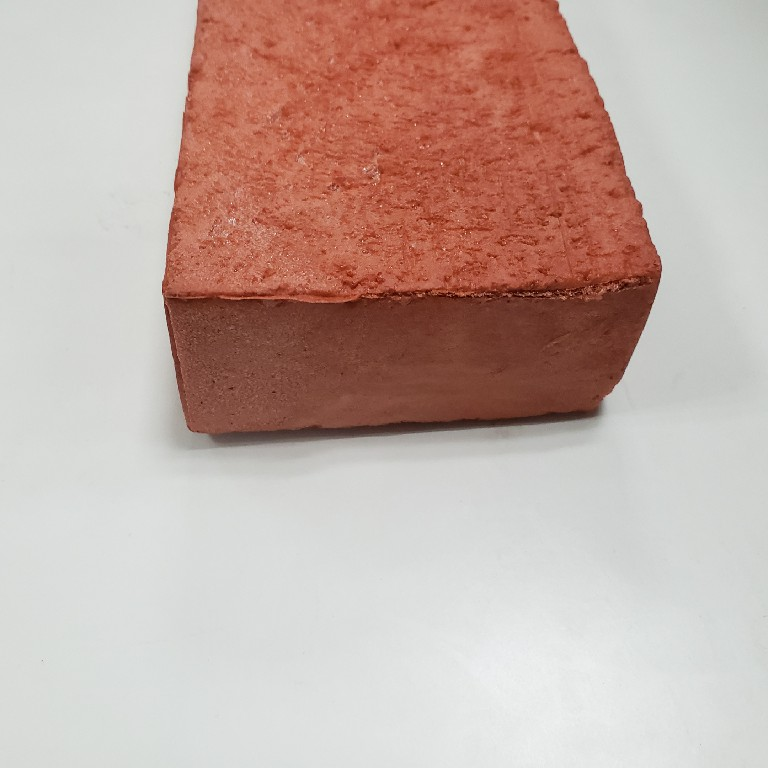brick: (152, 1, 668, 452)
